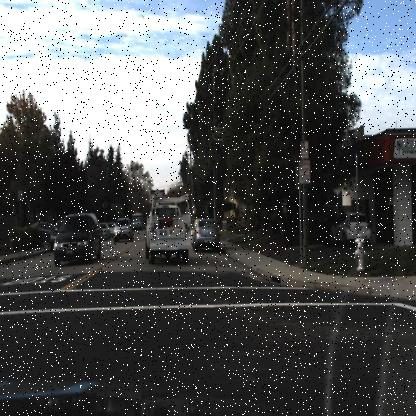car: (139, 184, 198, 264), (54, 210, 100, 268), (327, 213, 371, 243), (191, 217, 219, 249), (112, 214, 134, 243), (30, 213, 54, 236)
truck: (146, 186, 193, 270)
